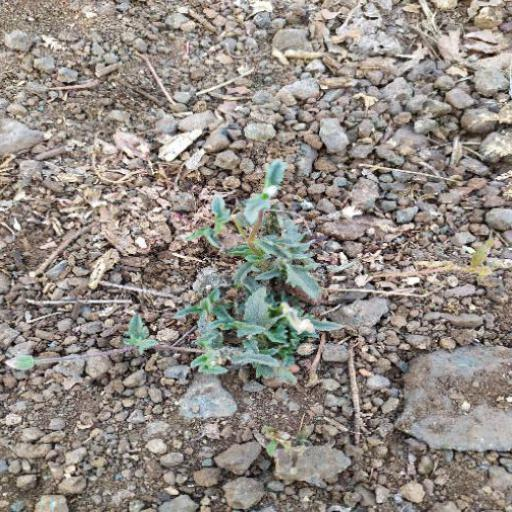weed: (153, 189, 338, 406)
